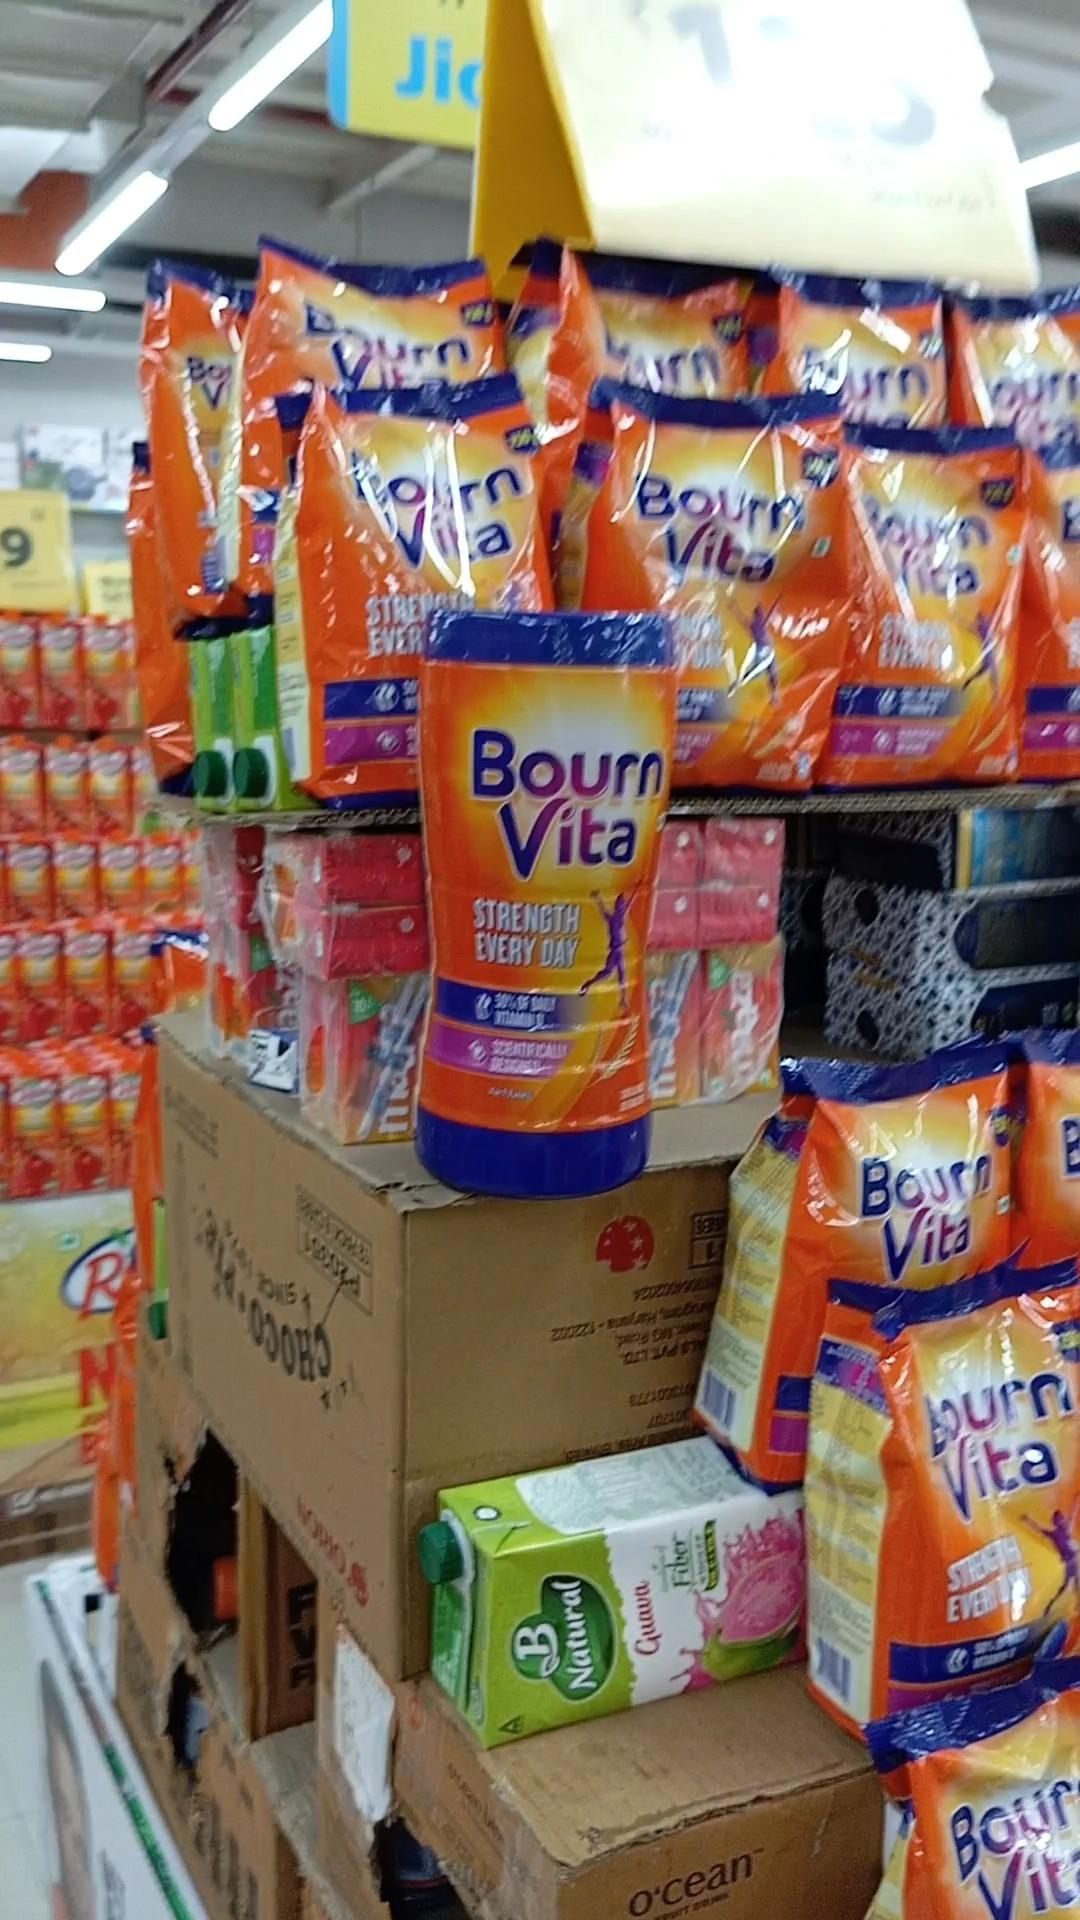BOURN_VITA_1_KG_JAR: (421, 595, 659, 1205)
